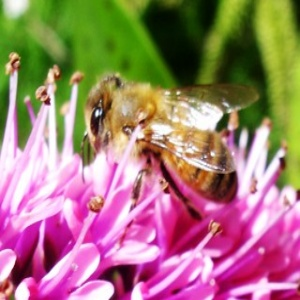bee: (82, 73, 263, 210)
